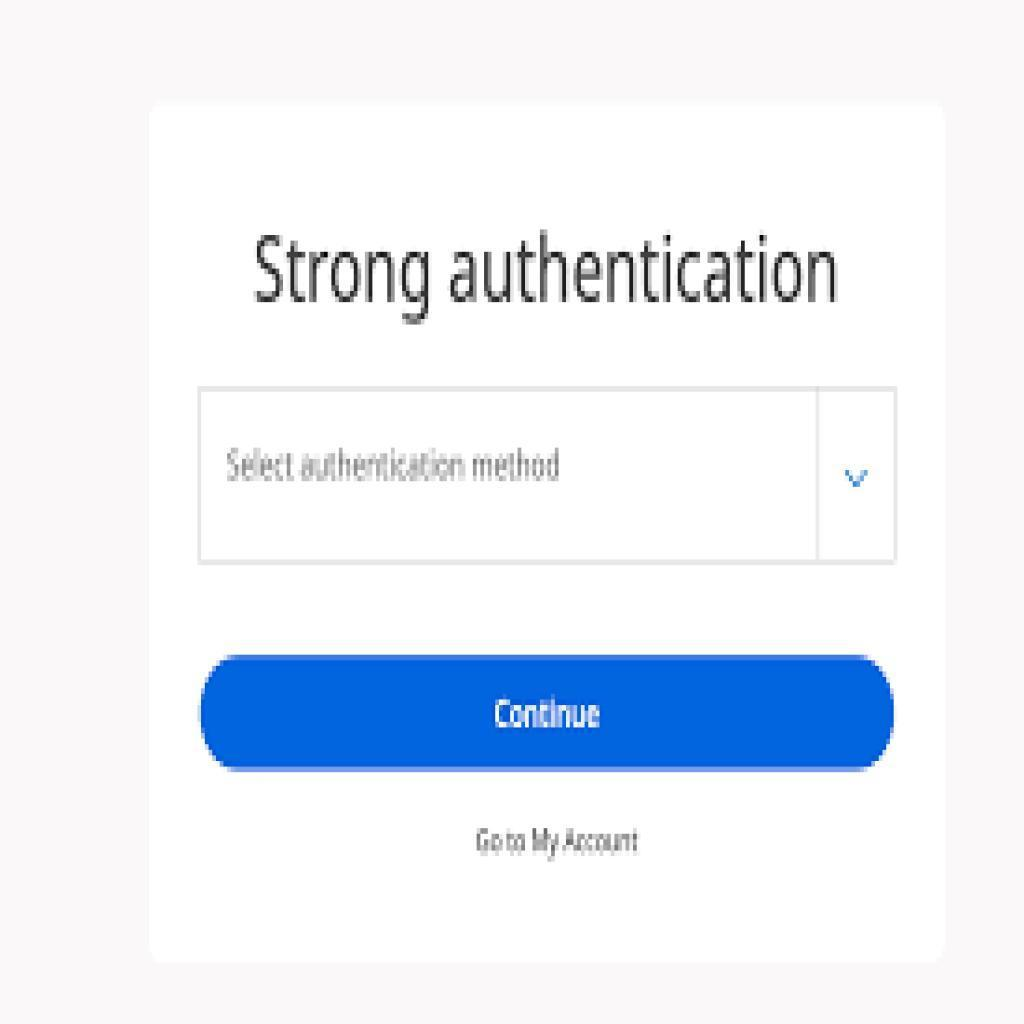button: (202, 653, 897, 775)
dropdown: (198, 392, 899, 566)
label: (256, 232, 844, 315), (470, 817, 651, 860)
